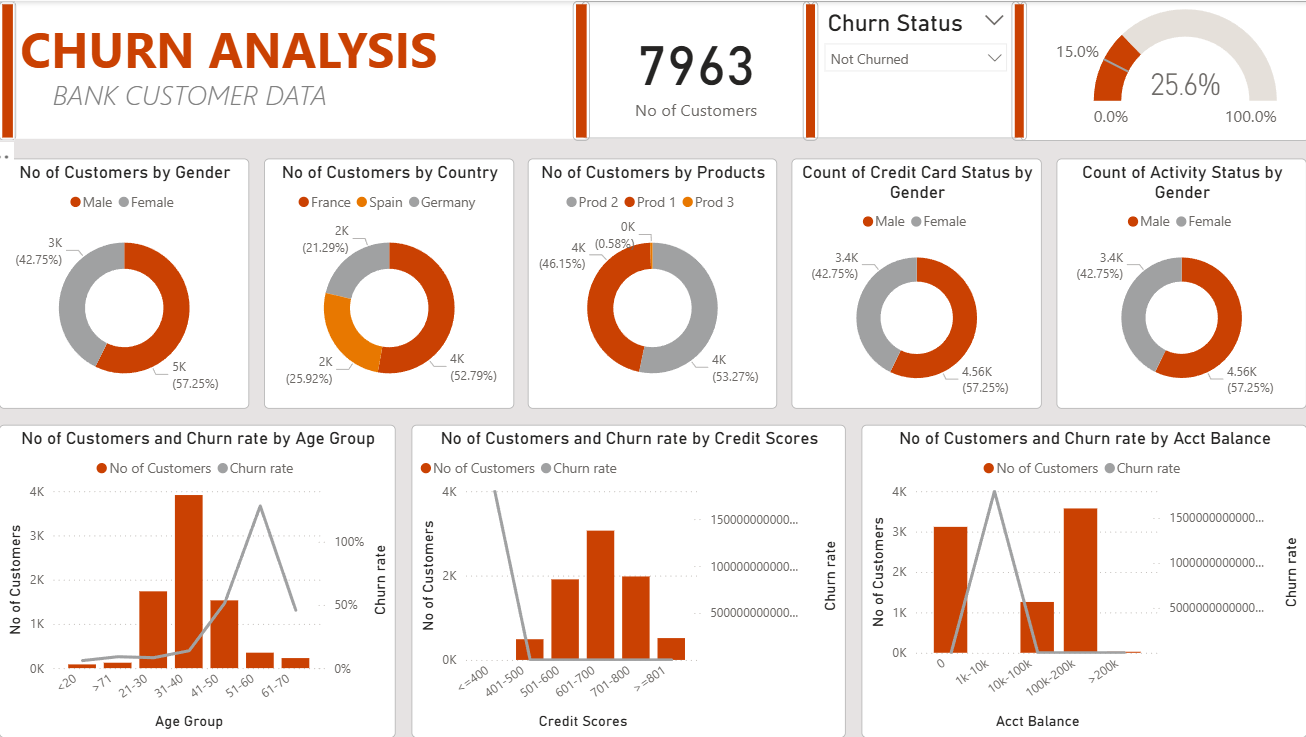

This screenshot's page, from the dashboard's own definition file:
{"tool":"powerbi","page":{"name":"Page 1","canvas":[1280,720],"ordinal":0},"visuals":[{"type":"shape","box":[0,0,1267.9,134.6],"z":0},{"type":"card","fields":{"Values":["Customer Data.Customers"]},"box":[569.2,0,224.4,134.6],"z":1000},{"type":"donutChart","fields":{"Category":["Customer Data.Gender"],"Y":["Customer Data.Customers"]},"box":[0,153.8,245,245],"z":2000},{"type":"donutChart","fields":{"Y":["Customer Data.Customers"],"Category":["Customer Data.Country"]},"box":[258.9,153.8,245,245],"z":3000},{"type":"donutChart","fields":{"Category":["Customer Data.Products"],"Y":["Customer Data.Customers"]},"box":[517.8,153.8,244,245],"z":4000},{"type":"donutChart","fields":{"Category":["Customer Data.Gender"],"Y":["CountNonNull(Customer Data.Credit Card Status)"]},"box":[775.7,153.8,245,245],"z":5000},{"type":"donutChart","fields":{"Category":["Customer Data.Gender"],"Y":["CountNonNull(Customer Data.Activity Status)"]},"box":[1034.6,153.9,244.9,244.9],"z":6000},{"type":"lineStackedColumnComboChart","fields":{"Category":["Customer Data.Age Group"],"Y2":["Customer Data.Churn rate"],"Y":["Customer Data.Customers"]},"box":[0,414.1,388,306.4],"z":7000},{"type":"lineStackedColumnComboChart","fields":{"Y":["Customer Data.No of Customers"],"Category":["Credit Score Groups.Credit Scores"],"Y2":["Customer Data.Churn rate"]},"box":[403.9,414.1,425,306.4],"z":8000},{"type":"lineStackedColumnComboChart","fields":{"Y2":["Customer Data.Churn rate"],"Y":["Customer Data.Customers"],"Category":["Acct Balance Groups.Acct Balance"]},"box":[844.1,414.1,435.9,306.4],"z":9000},{"type":"slicer","fields":{"Values":["Customer Data.Churn Status"]},"box":[794.3,0,204.3,134.3],"z":10000},{"type":"gauge","fields":{"MinValue":["Min(Customer Data.Min churn rate)"],"Y":["Customer Data.Churn rate"],"MaxValue":["Max(Customer Data.Max churn rate)"],"TargetValue":["Max(Customer Data.Target churn rate)"]},"box":[998.6,0,282.9,137.1],"z":11000},{"type":"textbox","box":[16.2,8.5,447.7,88.5],"z":12000},{"type":"textbox","box":[47.4,67.9,307.7,57.7],"z":13000},{"type":"shape","box":[0,0,16.4,136.8],"z":14000},{"type":"shape","box":[560.8,0,16.7,136.7],"z":15000},{"type":"shape","box":[786.7,0,15,136.7],"z":16000},{"type":"shape","box":[990.8,0,15,136.7],"z":16001}]}

Visuals, with their boxes in screenshot pixels (x1, y1, x2, y2), scaled from the page's 1280x720 canvas onto the 1306x737 screenshot:
shape: BBox(0, 0, 1294, 138)
card - Customer Data.Customers: BBox(581, 0, 810, 138)
donutChart - Customer Data.Gender x Customer Data.Customers: BBox(0, 157, 250, 408)
donutChart - Customer Data.Customers x Customer Data.Country: BBox(264, 157, 514, 408)
donutChart - Customer Data.Products x Customer Data.Customers: BBox(528, 157, 777, 408)
donutChart - Customer Data.Gender x CountNonNull(Customer Data.Credit Card Status): BBox(791, 157, 1041, 408)
donutChart - Customer Data.Gender x CountNonNull(Customer Data.Activity Status): BBox(1056, 158, 1305, 408)
lineStackedColumnComboChart - Customer Data.Age Group x Customer Data.Churn rate: BBox(0, 424, 396, 736)
lineStackedColumnComboChart - Customer Data.No of Customers x Credit Score Groups.Credit Scores: BBox(412, 424, 846, 736)
lineStackedColumnComboChart - Customer Data.Churn rate x Customer Data.Customers: BBox(861, 424, 1305, 736)
slicer - Customer Data.Churn Status: BBox(810, 0, 1019, 137)
gauge - Min(Customer Data.Min churn rate) x Customer Data.Churn rate: BBox(1019, 0, 1305, 140)
textbox: BBox(17, 9, 473, 99)
textbox: BBox(48, 70, 362, 129)
shape: BBox(0, 0, 17, 140)
shape: BBox(572, 0, 589, 140)
shape: BBox(803, 0, 818, 140)
shape: BBox(1011, 0, 1026, 140)
